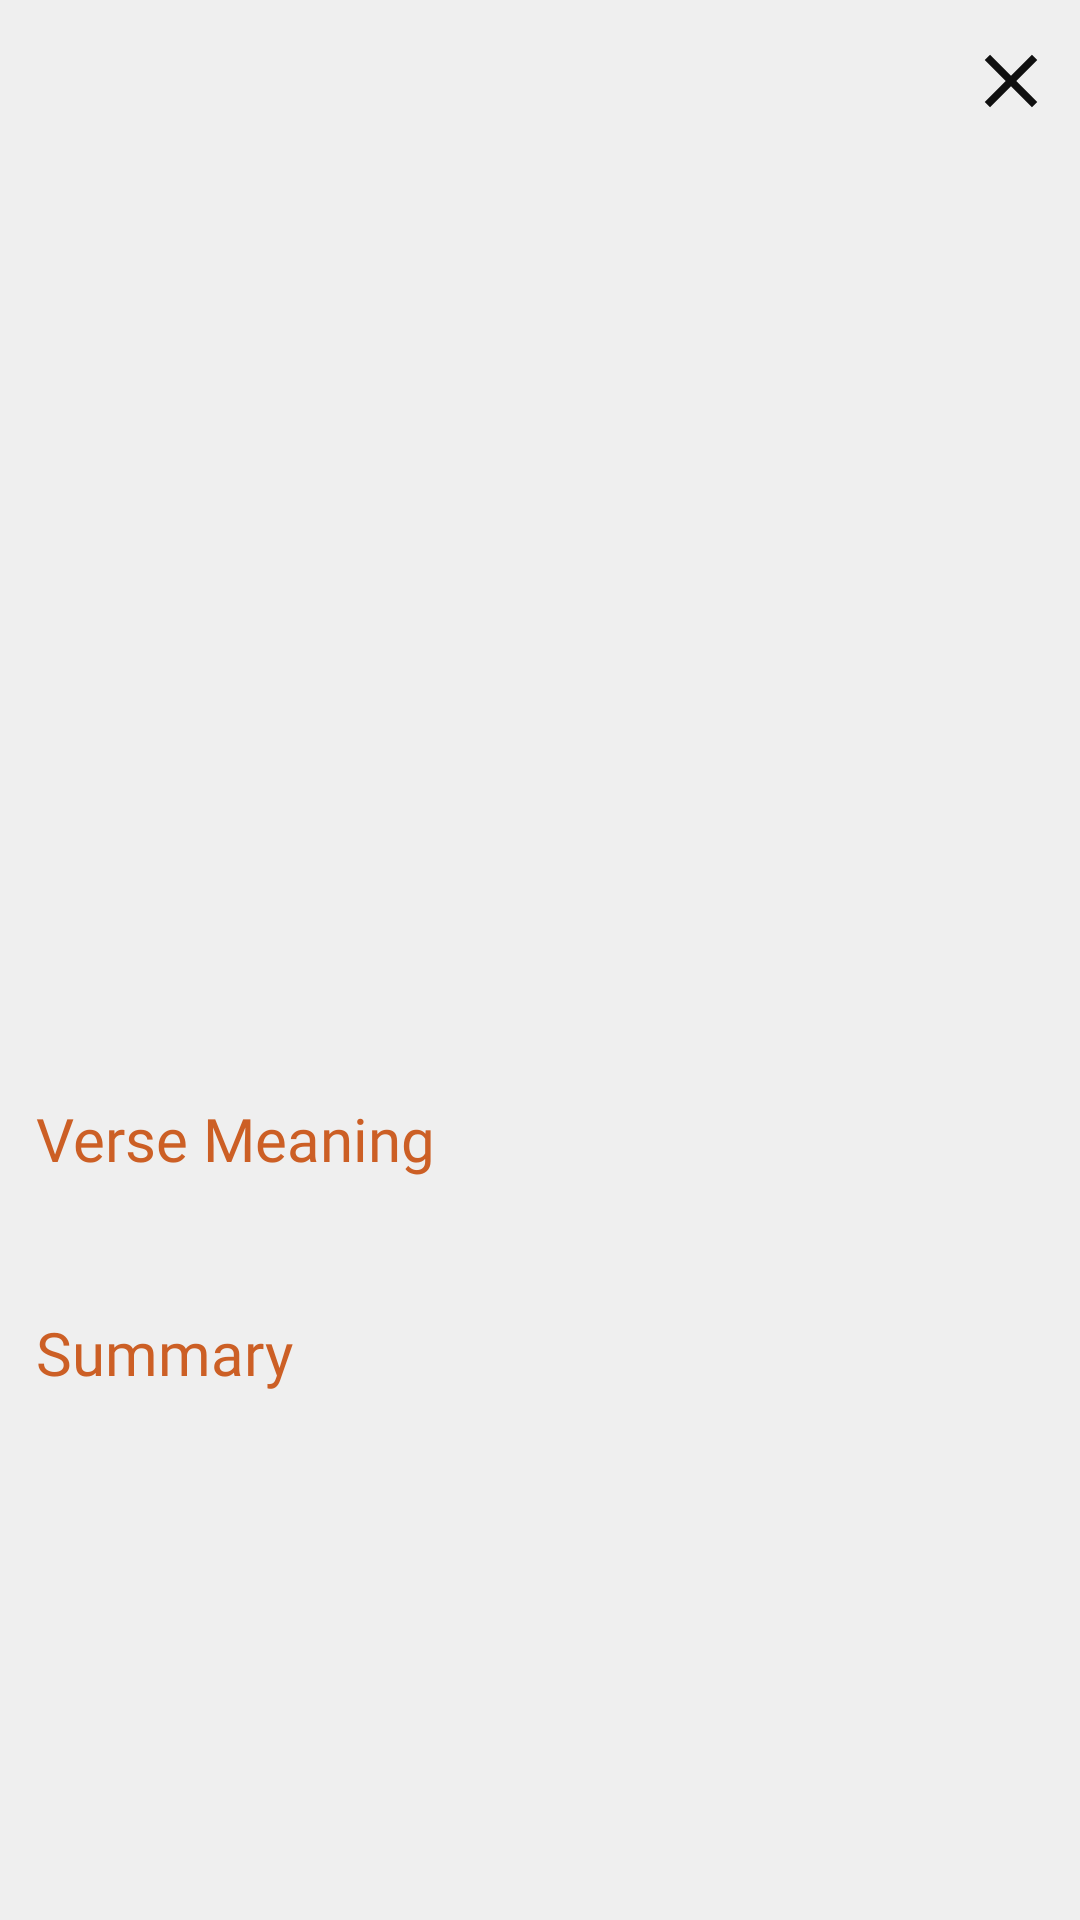

Icon bounding boxes for this 1080×1920 phone screenshot, format bbox=[x1, y1, x2, y2]:
close: bbox=[985, 55, 1037, 107]
